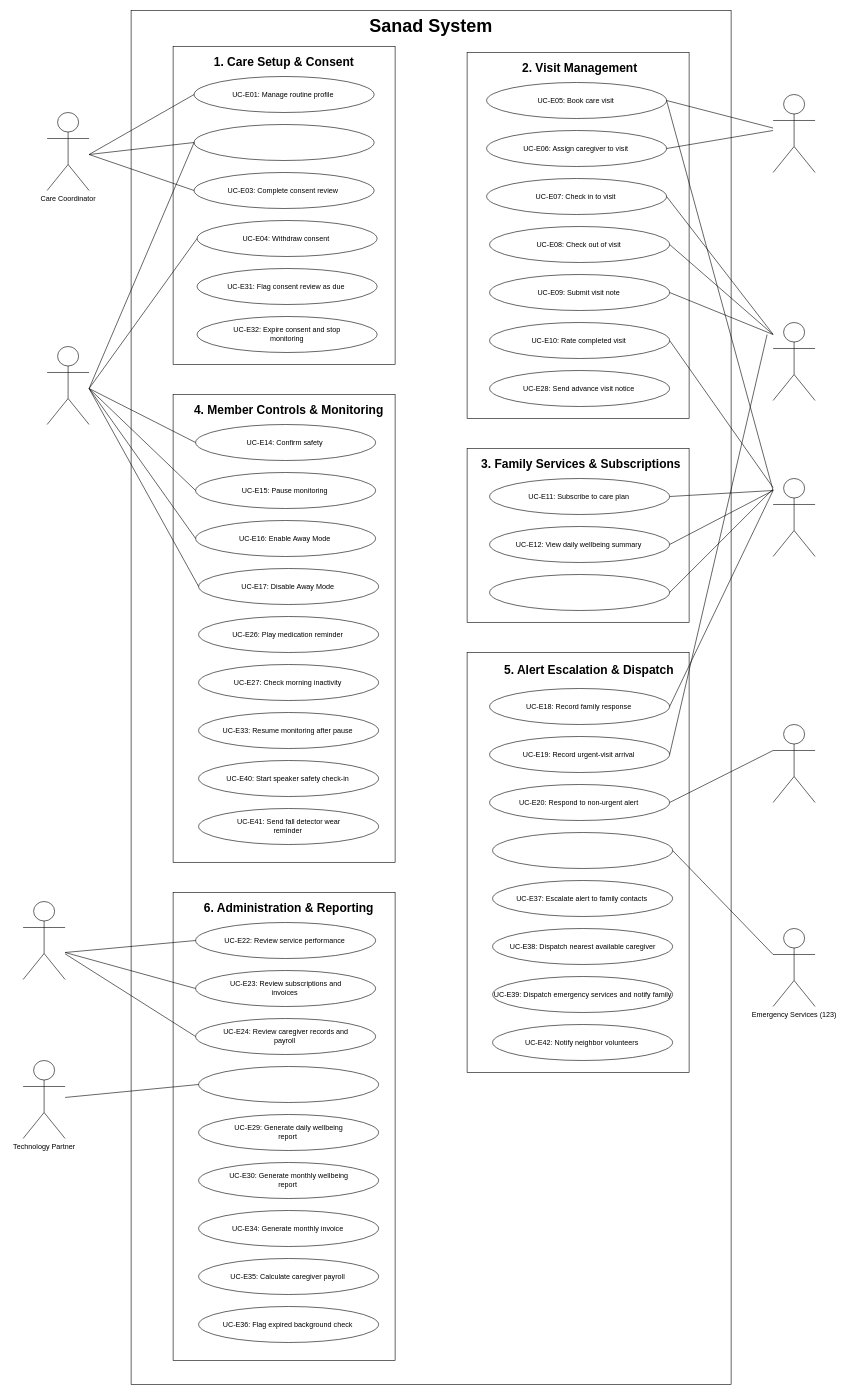
The diagram is 847 pixels wide and 1395 high, and some of its shapes have lost their labels. Each missing label, with the centre of its shape:
"Caregiver Team Lead" belongs at (x=793, y=133).
"Elderly Member" belongs at (x=67, y=385).
"Family Contact" belongs at (x=793, y=517).
"Field Caregiver" belongs at (x=793, y=361).
"Founder and Director" belongs at (x=43, y=940).
"Neighbor Volunteer" belongs at (x=793, y=763).
"UC-E02: Record informed consent" belongs at (x=284, y=142).
"UC-E21: Record emergency dispatch outcome" belongs at (x=582, y=850).
"UC-E25: Review device and sensor status" belongs at (x=288, y=1084).
